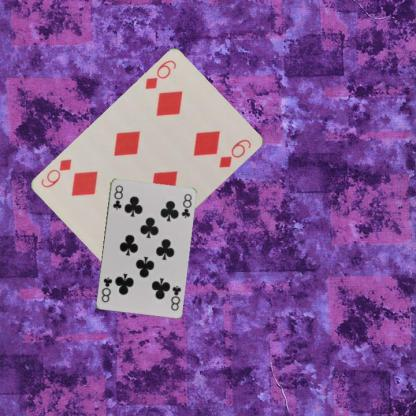6d: (142, 57, 178, 91)
8c: (168, 282, 182, 312), (110, 182, 124, 211)
